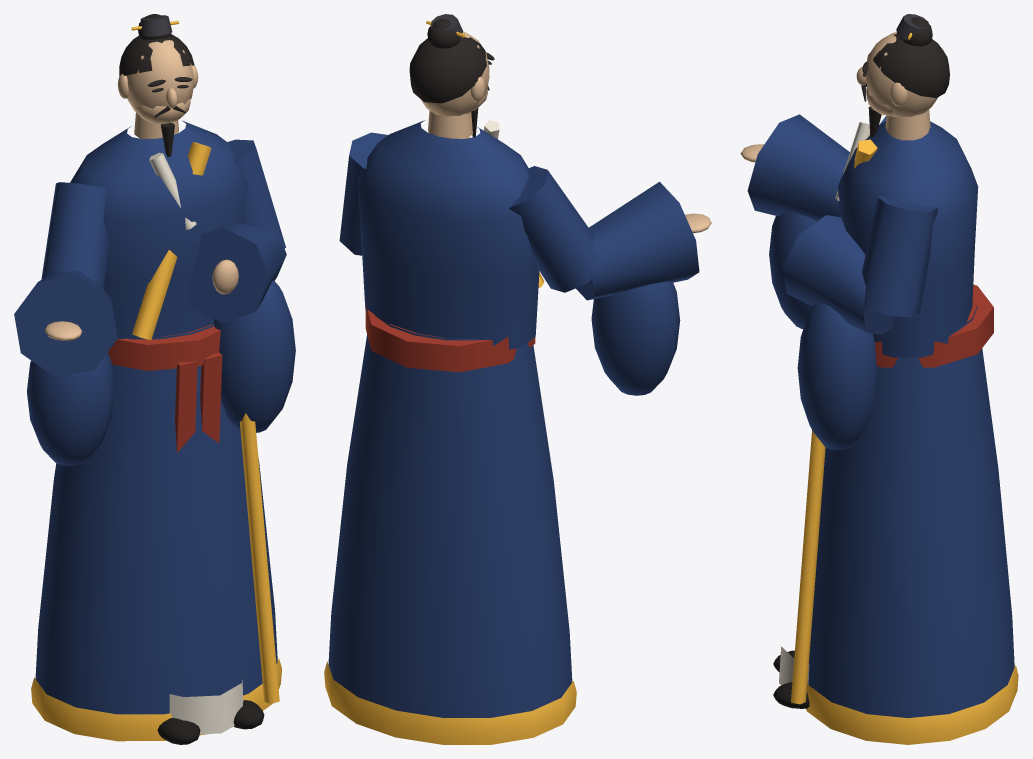
The model's file is zigong.glb.
3 views of the same model, side by side, from view 1: azimuth 30°, elevation 25°; view 2: azimuth 150°, elevation 25°; view 3: azimuth 270°, elevation 25° (orthographic).
Parts seen in each view (by area): view 1: Zigong; view 2: Zigong; view 3: Zigong.
Part boxes in pixels (box(x1,y1,x2,y2)): Zigong: box(14, 14, 295, 744); Zigong: box(324, 14, 711, 744); Zigong: box(740, 14, 1018, 744).
Size of the model in its own units: 0.8728 by 1.82 by 0.6803.
